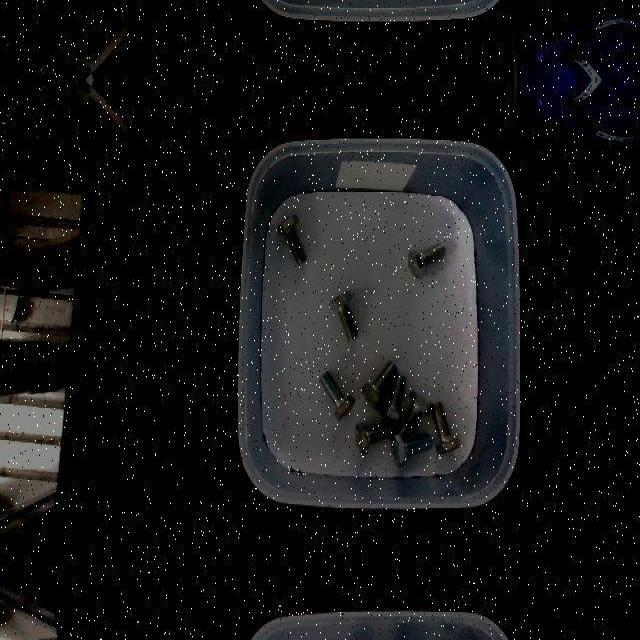screw: (319, 368, 356, 422), (361, 359, 397, 409), (431, 401, 461, 455), (277, 213, 307, 265), (329, 290, 358, 342), (408, 240, 446, 278), (355, 420, 397, 454), (391, 431, 431, 465), (380, 372, 406, 424)
